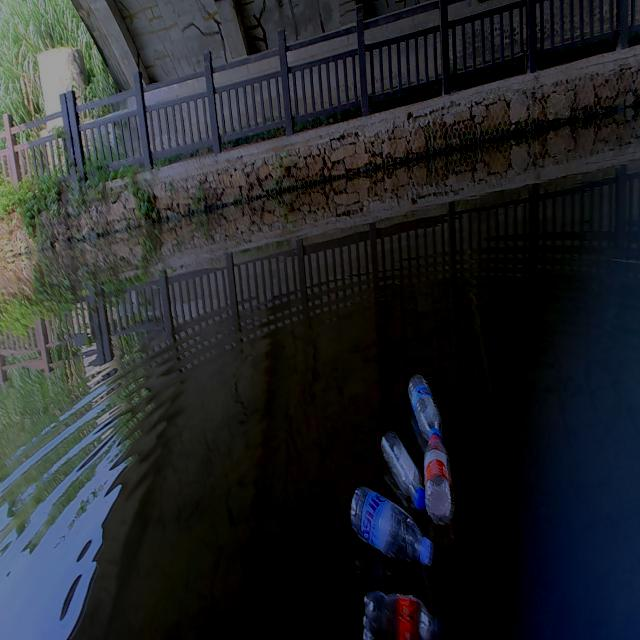bottle: (342, 482, 447, 564), (351, 586, 456, 638), (377, 428, 432, 506), (418, 427, 458, 530), (401, 371, 454, 440)
